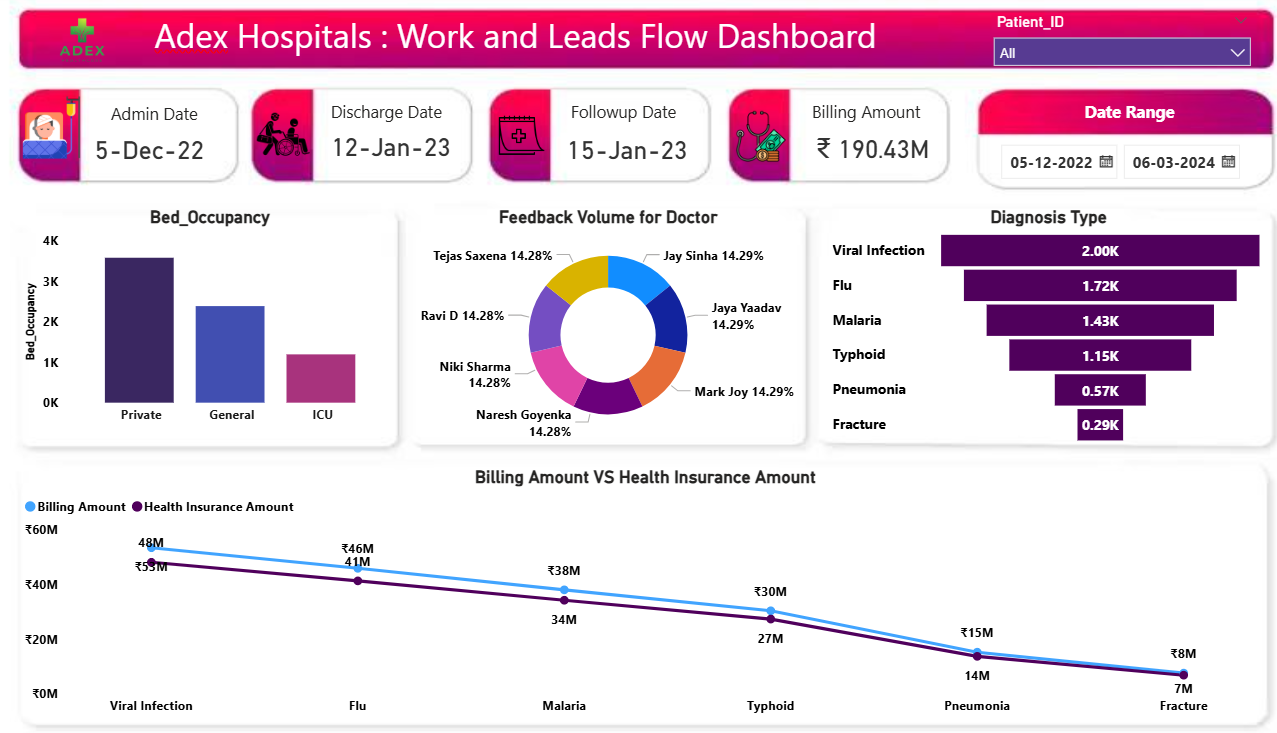

The dashboard page shown, as its layout file describes it:
{"tool":"powerbi","page":{"name":"Page 1","canvas":[1280,720],"ordinal":0},"visuals":[{"type":"textbox","box":[160.5,13.5,719.1,54],"z":1000},{"type":"slicer","fields":{"Values":["Sheet1.Patient_ID"]},"box":[967.3,17.5,265.8,54],"z":2000},{"type":"advanceCardE03760C5AB684758B56AA29F9E6C257B","fields":{"mainMeasure":["Sheet1.Admit_Date"]},"box":[80.9,134.3,159,34.3],"z":3000},{"type":"textbox","box":[117.9,98.7,97.3,71.3],"z":4000},{"type":"textbox","box":[330.4,97.3,119.3,48],"z":5000},{"type":"advanceCardE03760C5AB684758B56AA29F9E6C257B","fields":{"mainMeasure":["Sheet1.Discharge_Date"]},"box":[309.8,133,167.2,35.6],"z":6000},{"type":"textbox","box":[562,97.3,112.4,32.9],"z":7000},{"type":"advanceCardE03760C5AB684758B56AA29F9E6C257B","fields":{"mainMeasure":["Sheet1.Followup Date"]},"box":[557.9,134.3,128.9,35.6],"z":8000},{"type":"textbox","box":[795,97.3,127.5,34.3],"z":9000},{"type":"advanceCardE03760C5AB684758B56AA29F9E6C257B","fields":{"mainMeasure":["Sheet1.Billing Amount"]},"box":[795,133,127.5,35.6],"z":10000},{"type":"slicer","fields":{"Values":["Sheet1.Admit_Date"]},"box":[970,134.9,265.8,47.2],"z":11000},{"type":"columnChart","title":"Bed_Occupancy","fields":{"Category":["Sheet1.Bed_Occupancy"],"Y":["Sheet1.Bed_Occupancy"]},"box":[35.1,205.1,368.3,229.3],"z":12000},{"type":"donutChart","title":"Feedback Volume for Doctor","fields":{"Y":["Sheet1.Doctor"],"Category":["Sheet1.Doctor"]},"box":[412.8,205.1,381.8,229.3],"z":13000},{"type":"funnel","title":"Diagnosis Type","fields":{"Y":["Sheet1.Diagnosis"],"Category":["Sheet1.Diagnosis"]},"box":[806.7,205.1,437.1,229.3],"z":14000},{"type":"lineChart","title":"Billing Amount VS Health Insurance Amount","fields":{"Y":["Sheet1.Billing Amount","Sheet1.Health Insurance Amount"],"Category":["Sheet1.Diagnosis"]},"box":[35.1,456,1208.8,249.6],"z":15000},{"type":"textbox","box":[1057.7,97.1,109.3,32.4],"z":16000},{"type":"image","box":[29.7,95.8,68.8,67.5],"z":16001},{"type":"image","box":[264.4,99.8,51.3,70.2],"z":16002},{"type":"image","box":[492.4,114.7,55.3,44.5],"z":16003},{"type":"image","box":[720.4,110.6,60.7,52.6],"z":16004},{"type":"image","box":[29.7,5.4,130.9,78.2],"z":16005}]}

Visuals, with their boxes in screenshot pixels (x1, y1, x2, y2), scaled from the page's 1280x720 canvas onto the 1277x733 screenshot:
textbox: x1=160 y1=14 x2=878 y2=69
slicer - Sheet1.Patient_ID: x1=965 y1=18 x2=1230 y2=73
advanceCardE03760C5AB684758B56AA29F9E6C257B - Sheet1.Admit_Date: x1=81 y1=137 x2=239 y2=172
textbox: x1=118 y1=100 x2=215 y2=173
textbox: x1=330 y1=99 x2=449 y2=148
advanceCardE03760C5AB684758B56AA29F9E6C257B - Sheet1.Discharge_Date: x1=309 y1=135 x2=476 y2=172
textbox: x1=561 y1=99 x2=673 y2=133
advanceCardE03760C5AB684758B56AA29F9E6C257B - Sheet1.Followup Date: x1=557 y1=137 x2=685 y2=173
textbox: x1=793 y1=99 x2=920 y2=134
advanceCardE03760C5AB684758B56AA29F9E6C257B - Sheet1.Billing Amount: x1=793 y1=135 x2=920 y2=172
slicer - Sheet1.Admit_Date: x1=968 y1=137 x2=1233 y2=185
"Bed_Occupancy" columnChart: x1=35 y1=209 x2=402 y2=442
"Feedback Volume for Doctor" donutChart: x1=412 y1=209 x2=793 y2=442
"Diagnosis Type" funnel: x1=805 y1=209 x2=1241 y2=442
"Billing Amount VS Health Insurance Amount" lineChart: x1=35 y1=464 x2=1241 y2=718
textbox: x1=1055 y1=99 x2=1164 y2=132
image: x1=30 y1=98 x2=98 y2=166
image: x1=264 y1=102 x2=315 y2=173
image: x1=491 y1=117 x2=546 y2=162
image: x1=719 y1=113 x2=779 y2=166
image: x1=30 y1=5 x2=160 y2=85
